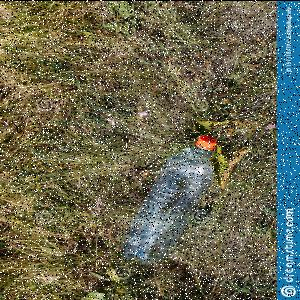Plastic-bottle: (121, 136, 219, 262)
